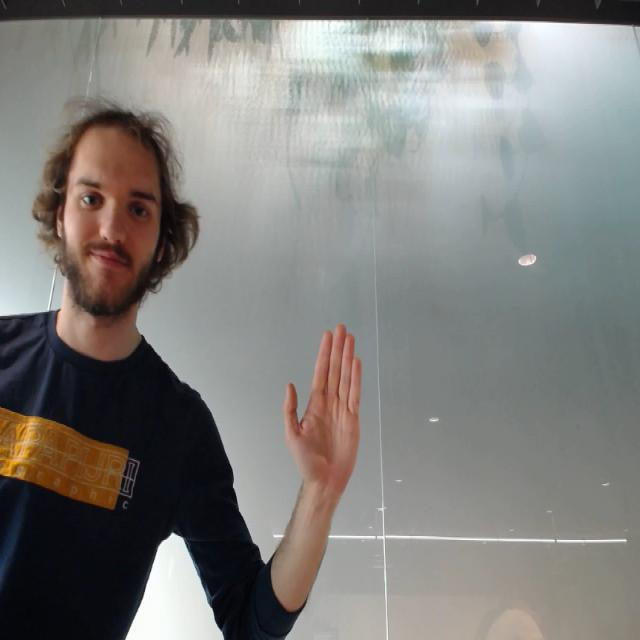backward: (282, 318, 366, 502)
